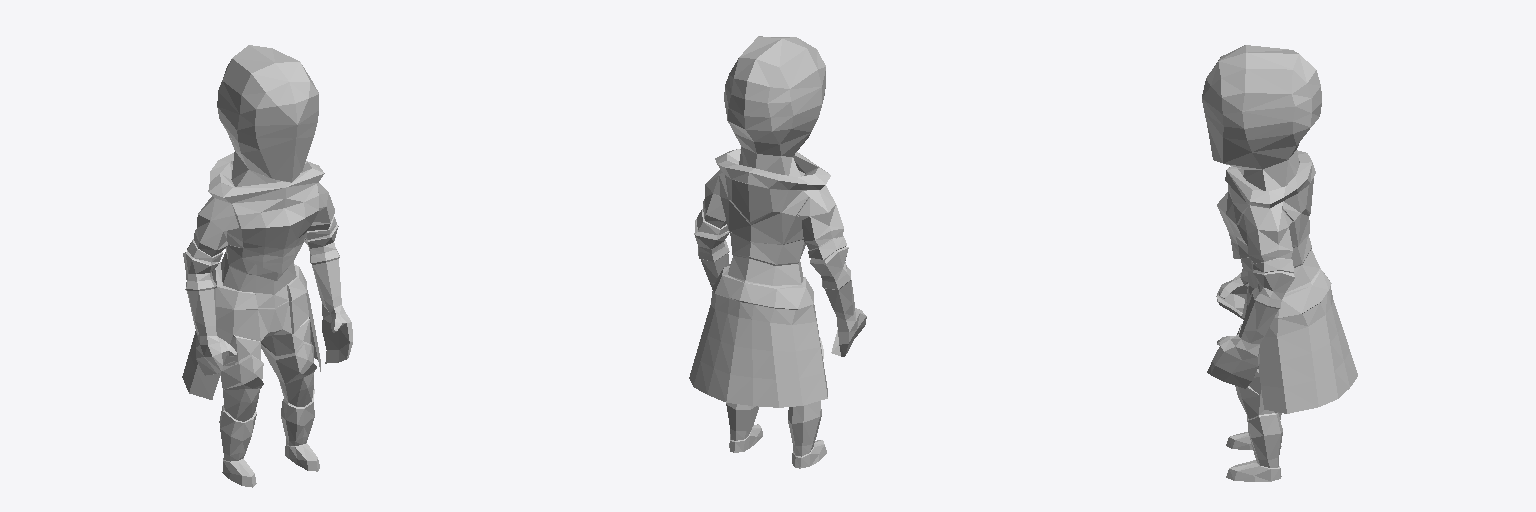
Rendered from WarriorBody.obj.
The picture shows the model from 3 angles: view 1: azimuth 30°, elevation 25°; view 2: azimuth 150°, elevation 25°; view 3: azimuth 270°, elevation 25°; orthographic projection.
Visible parts, largest first — view 1: WarriorBody; view 2: WarriorBody; view 3: WarriorBody.
Boxes of the visible parts, box(x1,y1,x2,y2) form: WarriorBody: box(182, 45, 352, 487); WarriorBody: box(689, 36, 866, 468); WarriorBody: box(1202, 45, 1357, 481).
Size of the model in its own units: 1.12 by 2.86 by 0.9906.